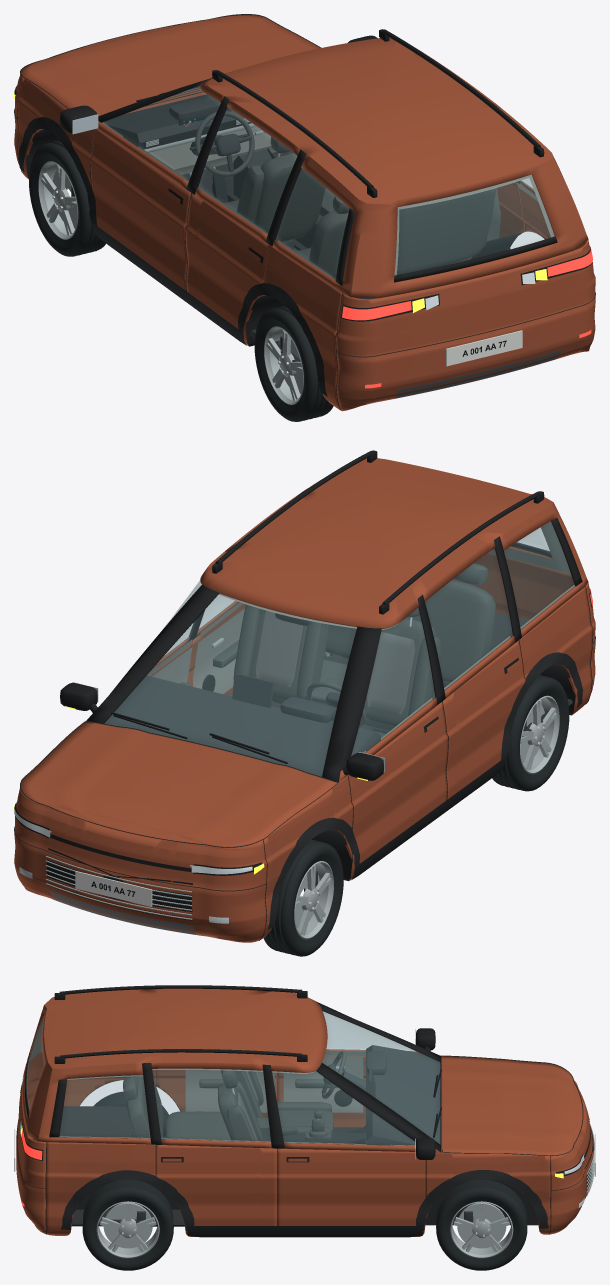
File: DS_Crossover_A.fbx
3 renders of one model, top to bottom at view 1: azimuth 30°, elevation 25°; view 2: azimuth 150°, elevation 25°; view 3: azimuth 270°, elevation 25°, orthographic. The views are drawn at different scales.
Parts seen in each view (by area): view 1: Roof, Bumper_Rear, Hood, Glass_Tailgate, Door_Front_L, RearBench_Backrest, Door_Rear_L, Glass_Rear_L, Glass_Front_L, Backrest_L, Glass_Quarter_L, Fender_Rear_L (+28 smaller); view 2: Roof, Glass_Windshield, Hood, Bumper_Front, Dashboard, Greenhouse_Trim, Door_Front_L, Glass_Rear_L, Door_Rear_L, Glass_Front_L, RearBench_Backrest, Glass_Quarter_L (+30 smaller); view 3: Roof, Hood, Door_Front_R, Door_Rear_R, Glass_Rear_R, Glass_Windshield, Glass_Front_R, Dashboard, Greenhouse_Trim, Glass_Quarter_R, Fender_Rear_R, Wheel_FR_Tyre (+37 smaller).
Boxes of the visible parts, x1,y1,x2,y2 form: Roof: (97, 37, 588, 298); Bumper_Rear: (336, 237, 595, 410); Hood: (21, 14, 320, 116); Glass_Tailgate: (395, 176, 553, 275); Door_Front_L: (90, 128, 190, 290); RearBench_Backrest: (309, 188, 495, 278); Door_Rear_L: (185, 193, 268, 346); Glass_Rear_L: (198, 107, 296, 234); Glass_Front_L: (102, 85, 220, 181); Backrest_L: (237, 153, 325, 242); Glass_Quarter_L: (276, 169, 349, 279); Fender_Rear_L: (263, 245, 342, 410); Roof: (152, 458, 588, 782); Glass_Windshield: (105, 594, 356, 776); Hood: (21, 721, 337, 846); Bumper_Front: (14, 787, 266, 942); Dashboard: (104, 675, 380, 776); Greenhouse_Trim: (87, 518, 582, 781); Door_Front_L: (348, 702, 448, 880); Glass_Rear_L: (425, 549, 512, 689); Door_Rear_L: (443, 640, 525, 799); Glass_Front_L: (351, 608, 434, 755); RearBench_Backrest: (325, 580, 495, 682); Glass_Quarter_L: (504, 521, 574, 628); Roof: (22, 988, 440, 1152); Hood: (441, 1056, 582, 1155); Door_Front_R: (277, 1148, 425, 1236); Door_Rear_R: (156, 1145, 276, 1236); Glass_Rear_R: (152, 1069, 270, 1141); Glass_Windshield: (322, 1011, 439, 1143); Glass_Front_R: (272, 1071, 414, 1145); Dashboard: (366, 1045, 440, 1145); Greenhouse_Trim: (24, 1002, 440, 1151); Glass_Quarter_R: (60, 1075, 150, 1138); Fender_Rear_R: (46, 1142, 155, 1235); Wheel_FR_Tyre: (436, 1179, 527, 1270).
Bounding box in the file's own units: 217 × 439 × 171.
